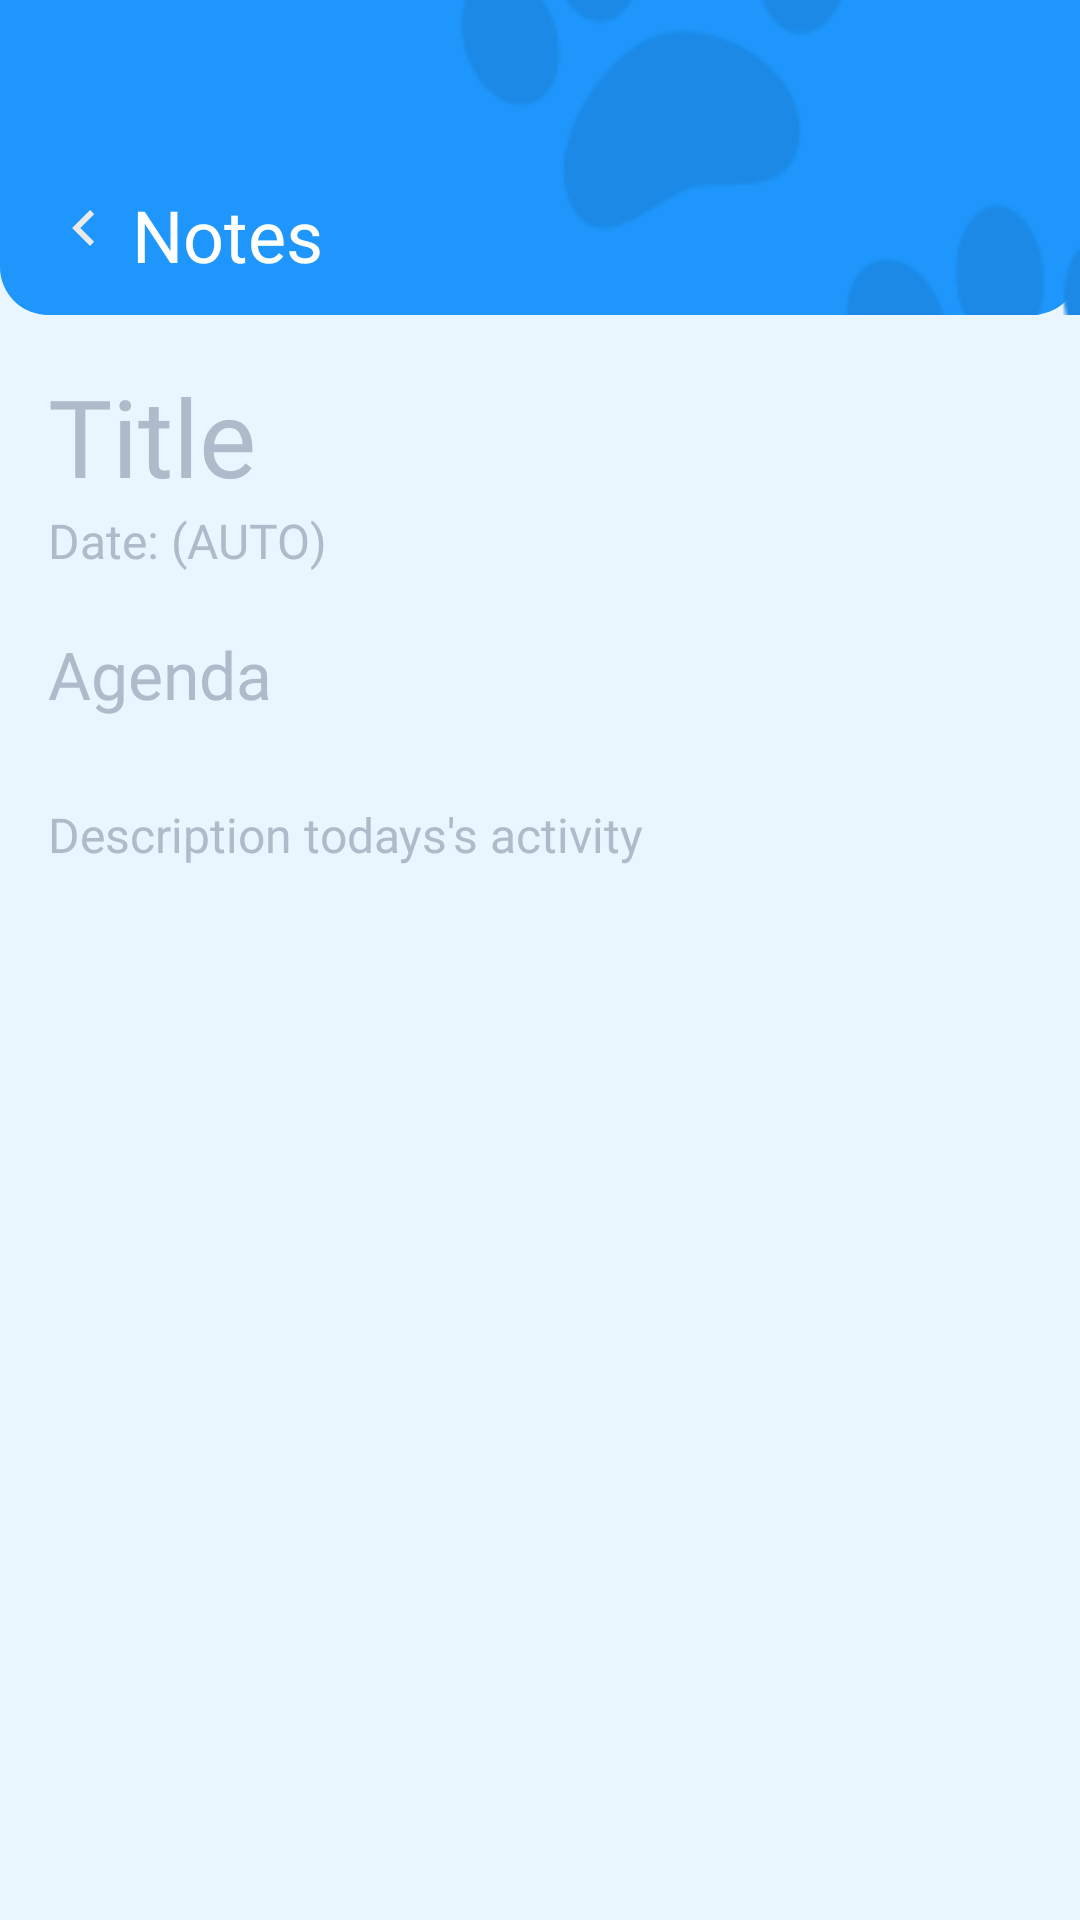

Where icons sit on this 1080×1920 app screen, as (x1, y1, x2, y2):
arrow left: (72, 210, 94, 246)
